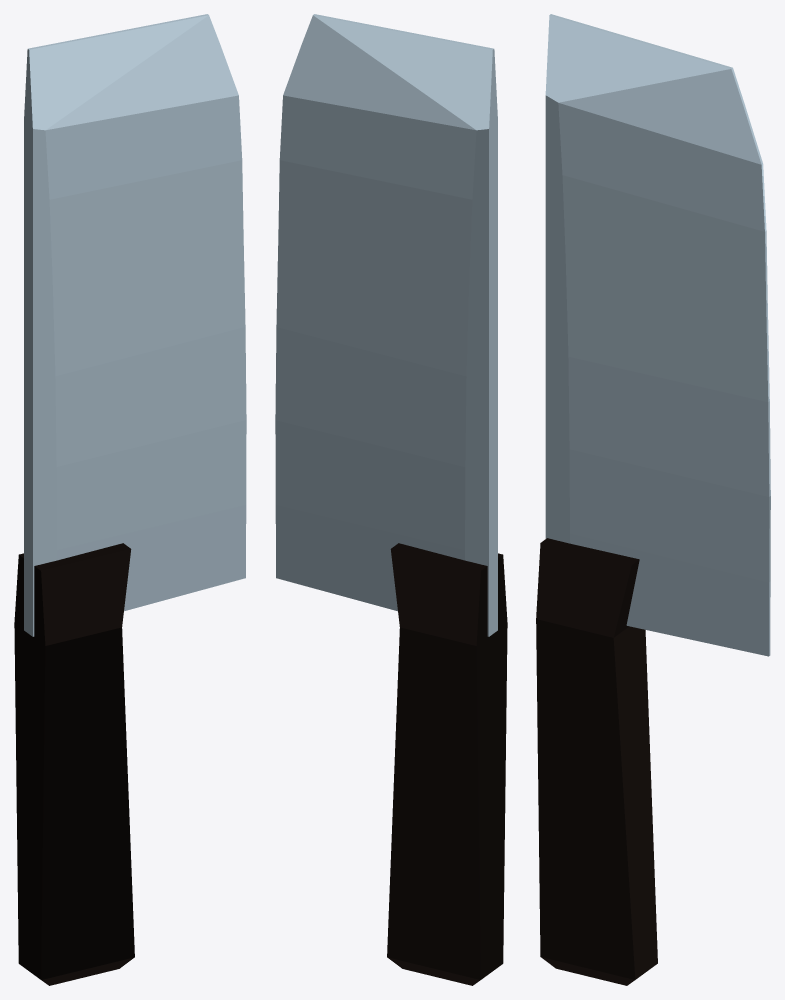
File: Cleaver.obj
3 renders of one model, left to right at view 1: azimuth 30°, elevation 25°; view 2: azimuth 150°, elevation 25°; view 3: azimuth 330°, elevation 25°, orthographic.
Parts seen in each view (by area): view 1: Cube.006; view 2: Cube.006; view 3: Cube.006.
Part boxes in pixels (x1,y1,x2,y2): Cube.006: (14,14,246,985); Cube.006: (275,14,507,985); Cube.006: (536,14,770,985).
Bounding box in the file's own units: 0.0725 × 0.2977 × 0.0179.
